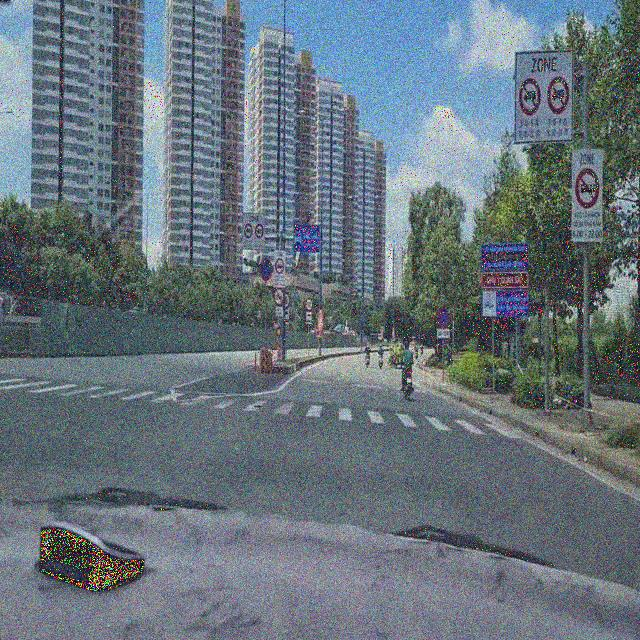Biển phụ: (434, 326, 451, 340), (273, 306, 284, 317), (304, 308, 310, 325)
Cấm các phương tiện hoạt động trong khung giờ cố định: (510, 46, 575, 146), (568, 144, 608, 246), (238, 207, 270, 248)
Cấm dừng - Cấm đỗ: (258, 252, 272, 285), (434, 300, 451, 326)
Cấm xe máy: (271, 286, 287, 305)
Giới hạn tốc độ: 80Km/h: (304, 294, 313, 312)
Khác: (479, 241, 533, 321)
Làn đường cho từng xe: (289, 217, 320, 252)
